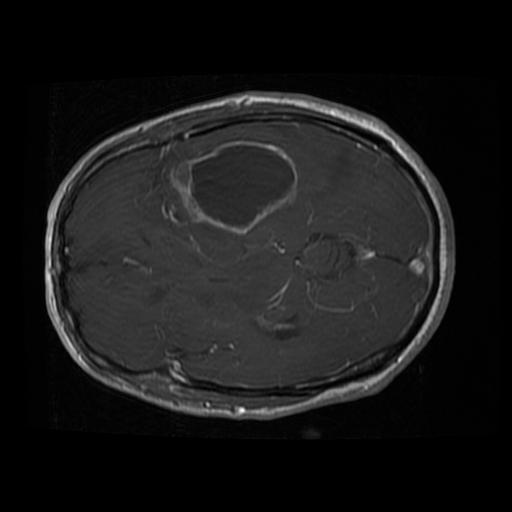glioma: (170, 139, 299, 235)
